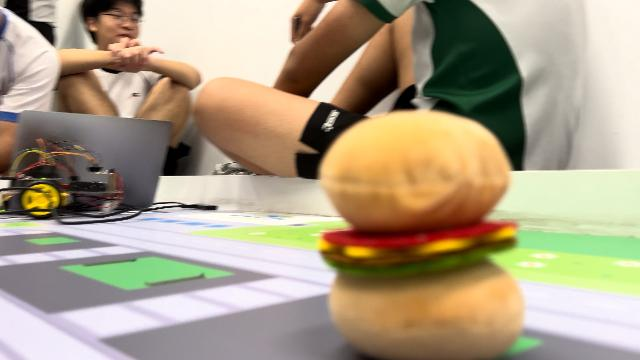burger: (314, 109, 522, 357)
